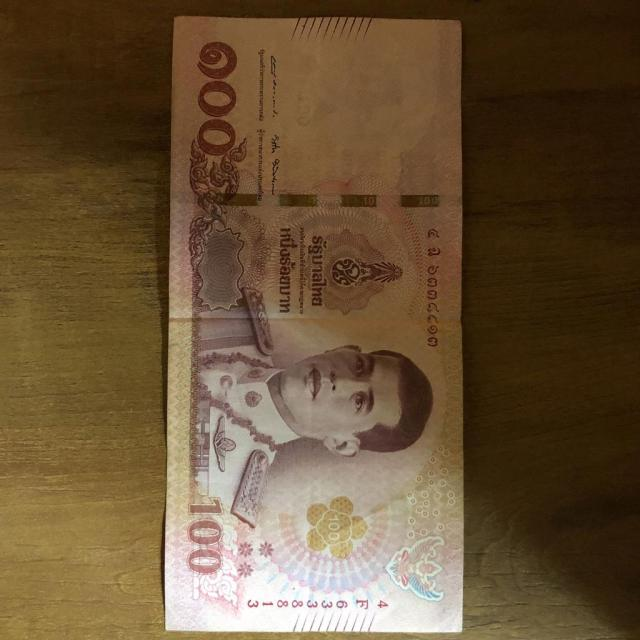THAI100: (162, 16, 466, 636)
